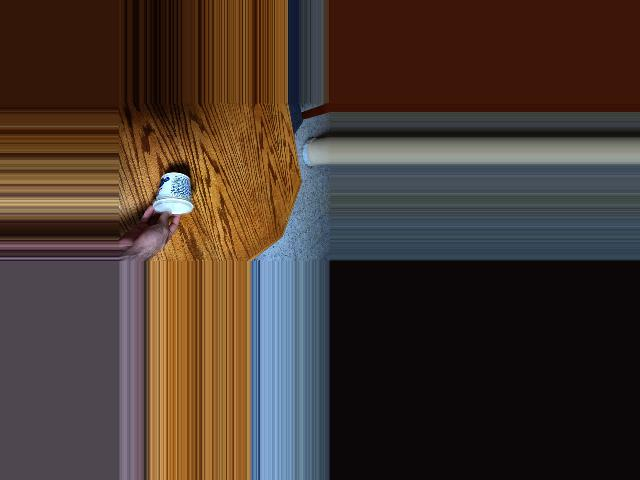cotage: (153, 176, 185, 218)
